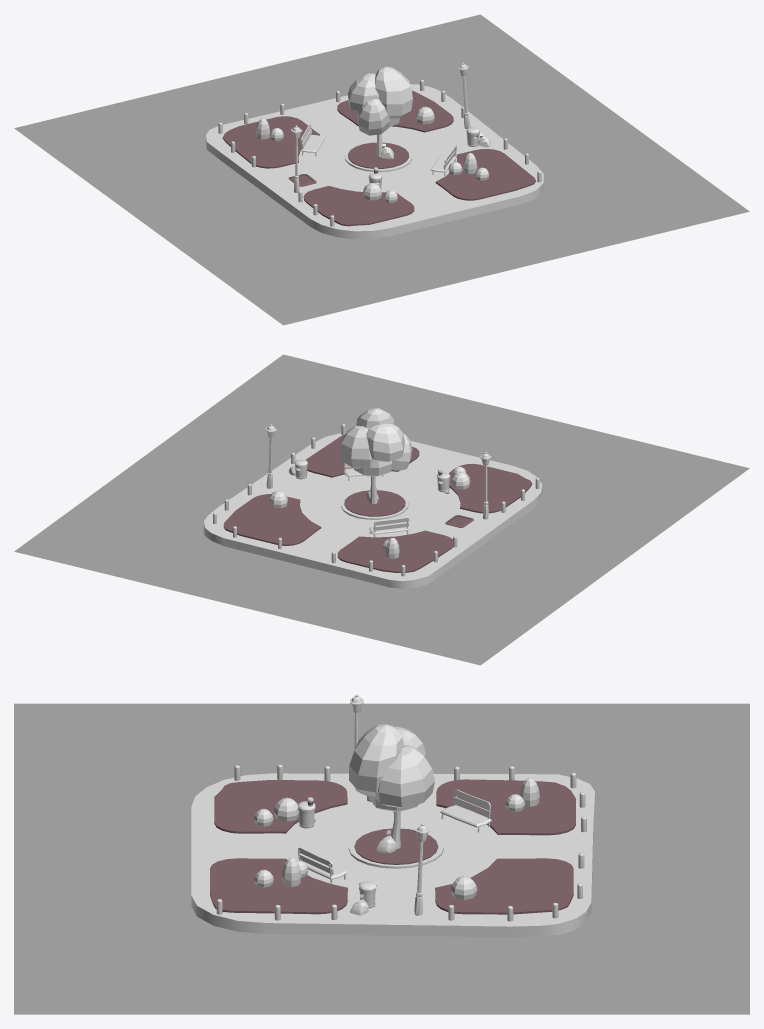
The model's file is block_1x1_SmallGarden_w5.fbx.
The picture shows the model from 3 angles, top to bottom: view 1: azimuth 30°, elevation 25°; view 2: azimuth 150°, elevation 25°; view 3: azimuth 270°, elevation 25°; orthographic projection. The views are drawn at different scales.
Visible parts, largest first — view 1: GARDEN_SMALL2_pasted__pCube1195; view 2: GARDEN_SMALL2_pasted__pCube1195; view 3: GARDEN_SMALL2_pasted__pCube1195.
Part boxes in pixels (left/top/right/bottom): GARDEN_SMALL2_pasted__pCube1195: left=14, top=14, right=749, bottom=325; GARDEN_SMALL2_pasted__pCube1195: left=14, top=354, right=749, bottom=665; GARDEN_SMALL2_pasted__pCube1195: left=14, top=694, right=749, bottom=1014.
Size of the model in its own units: 25 by 6.27 by 25.
